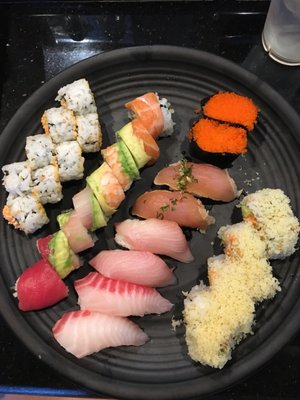pizza: (260, 0, 300, 67)
